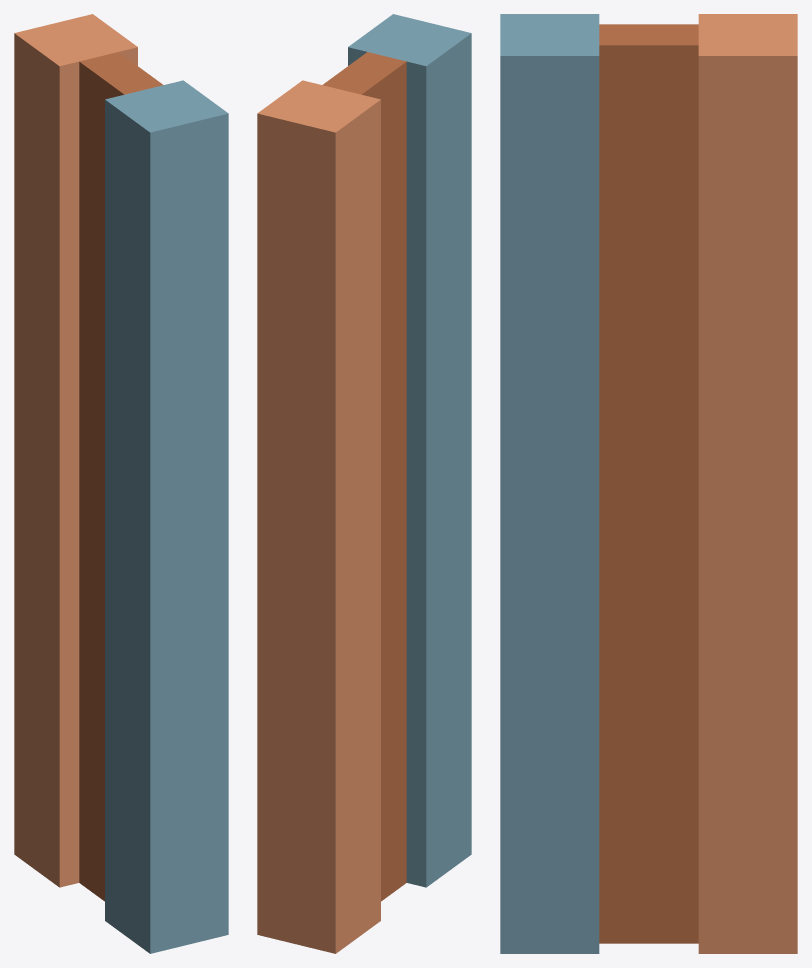
Rendered from wallWoodArch.glb.
3 views of the same model, side by side, from view 1: azimuth 30°, elevation 25°; view 2: azimuth 150°, elevation 25°; view 3: azimuth 270°, elevation 25° (orthographic). The views are drawn at different scales.
Visible parts, largest first — view 1: wallWoodArch; view 2: wallWoodArch; view 3: wallWoodArch.
Part boxes in pixels (x1=…): wallWoodArch: x1=14, y1=14, x2=228, y2=953; wallWoodArch: x1=257, y1=14, x2=471, y2=953; wallWoodArch: x1=500, y1=14, x2=797, y2=953.
Size of the model in its own units: 0.3 by 3 by 0.9.
